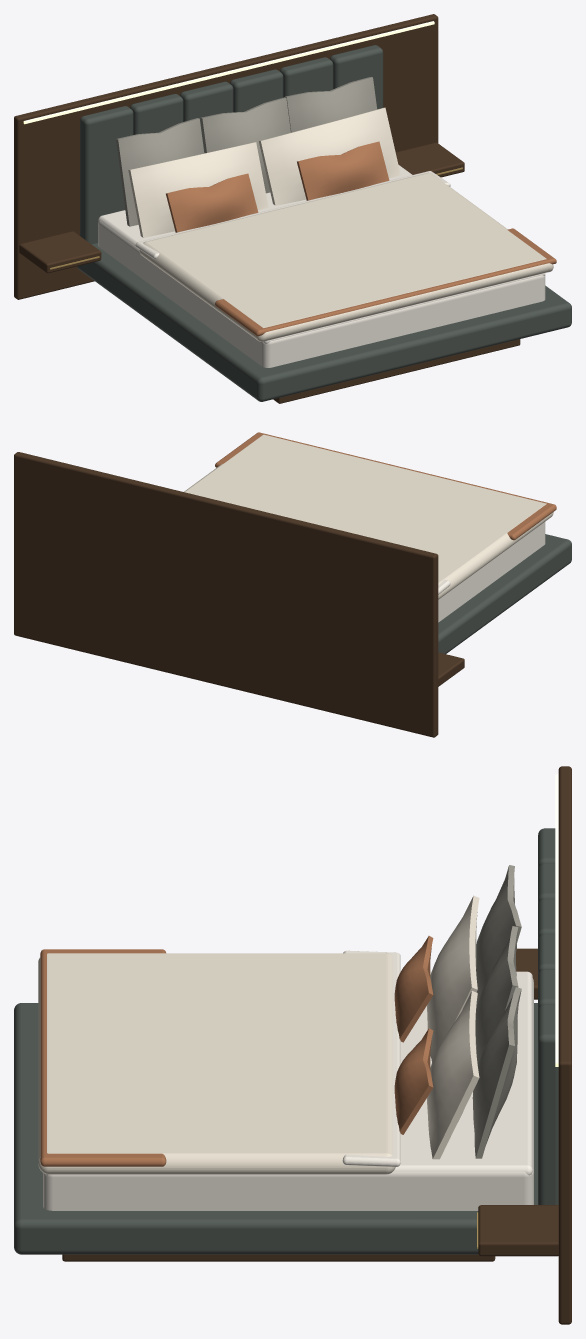
Rendered from atelier-bed-platform-king.glb.
3 renders of one model, top to bottom at view 1: azimuth 30°, elevation 25°; view 2: azimuth 150°, elevation 25°; view 3: azimuth 270°, elevation 25°, orthographic. The views are drawn at different scales.
Bounding box in the file's own units: 2.91 × 1.2 × 2.31.
